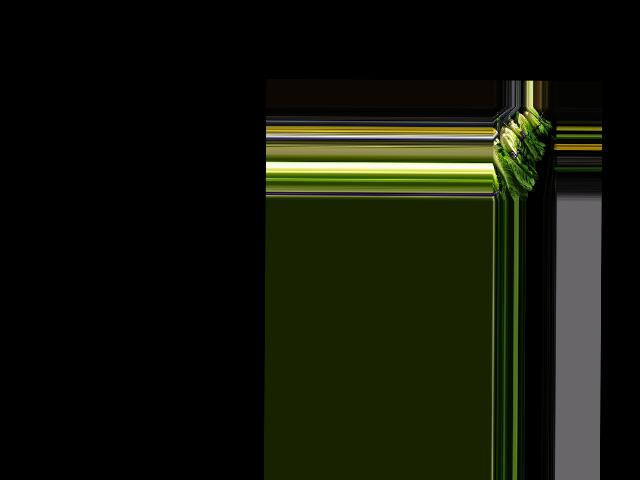lettuce: (494, 146, 533, 199)
